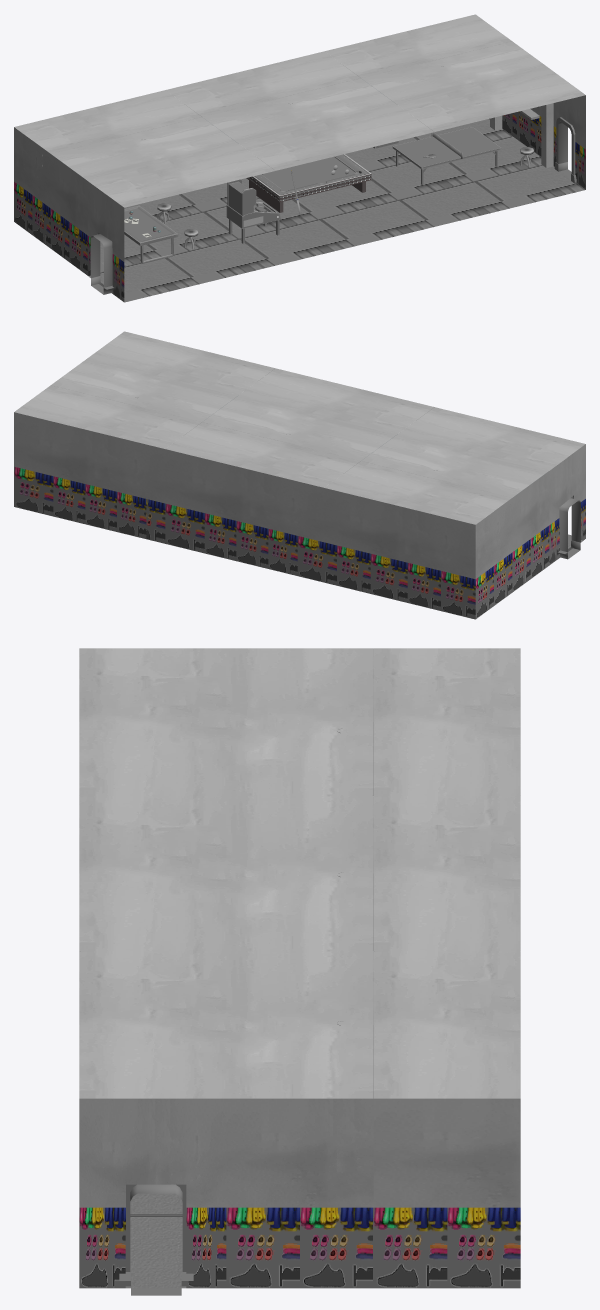
The model's file is MSH_Game_room_L1_R3_optimized.fbx.
3 views of the same model, one above another, from view 1: azimuth 30°, elevation 25°; view 2: azimuth 150°, elevation 25°; view 3: azimuth 270°, elevation 25° (orthographic). The views are drawn at different scales.
Parts seen in each view (by area): view 1: lightmap0, lightmap-1; view 2: lightmap0, lightmap-1; view 3: lightmap0, lightmap-1.
Boxes of the visible parts, x1,y1,x2,y2 form: lightmap0: [14, 14, 585, 302]; lightmap-1: [90, 121, 571, 294]; lightmap0: [14, 331, 585, 619]; lightmap-1: [559, 498, 580, 559]; lightmap0: [79, 648, 520, 1288]; lightmap-1: [130, 1184, 182, 1295].
Bounding box in the file's own units: 30.91 × 5.88 × 12.39.
